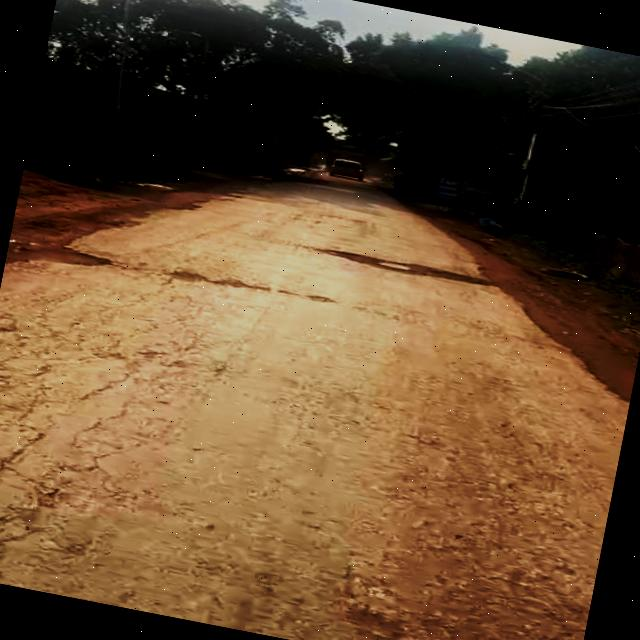pothole: (321, 243, 502, 296), (5, 235, 121, 288)
